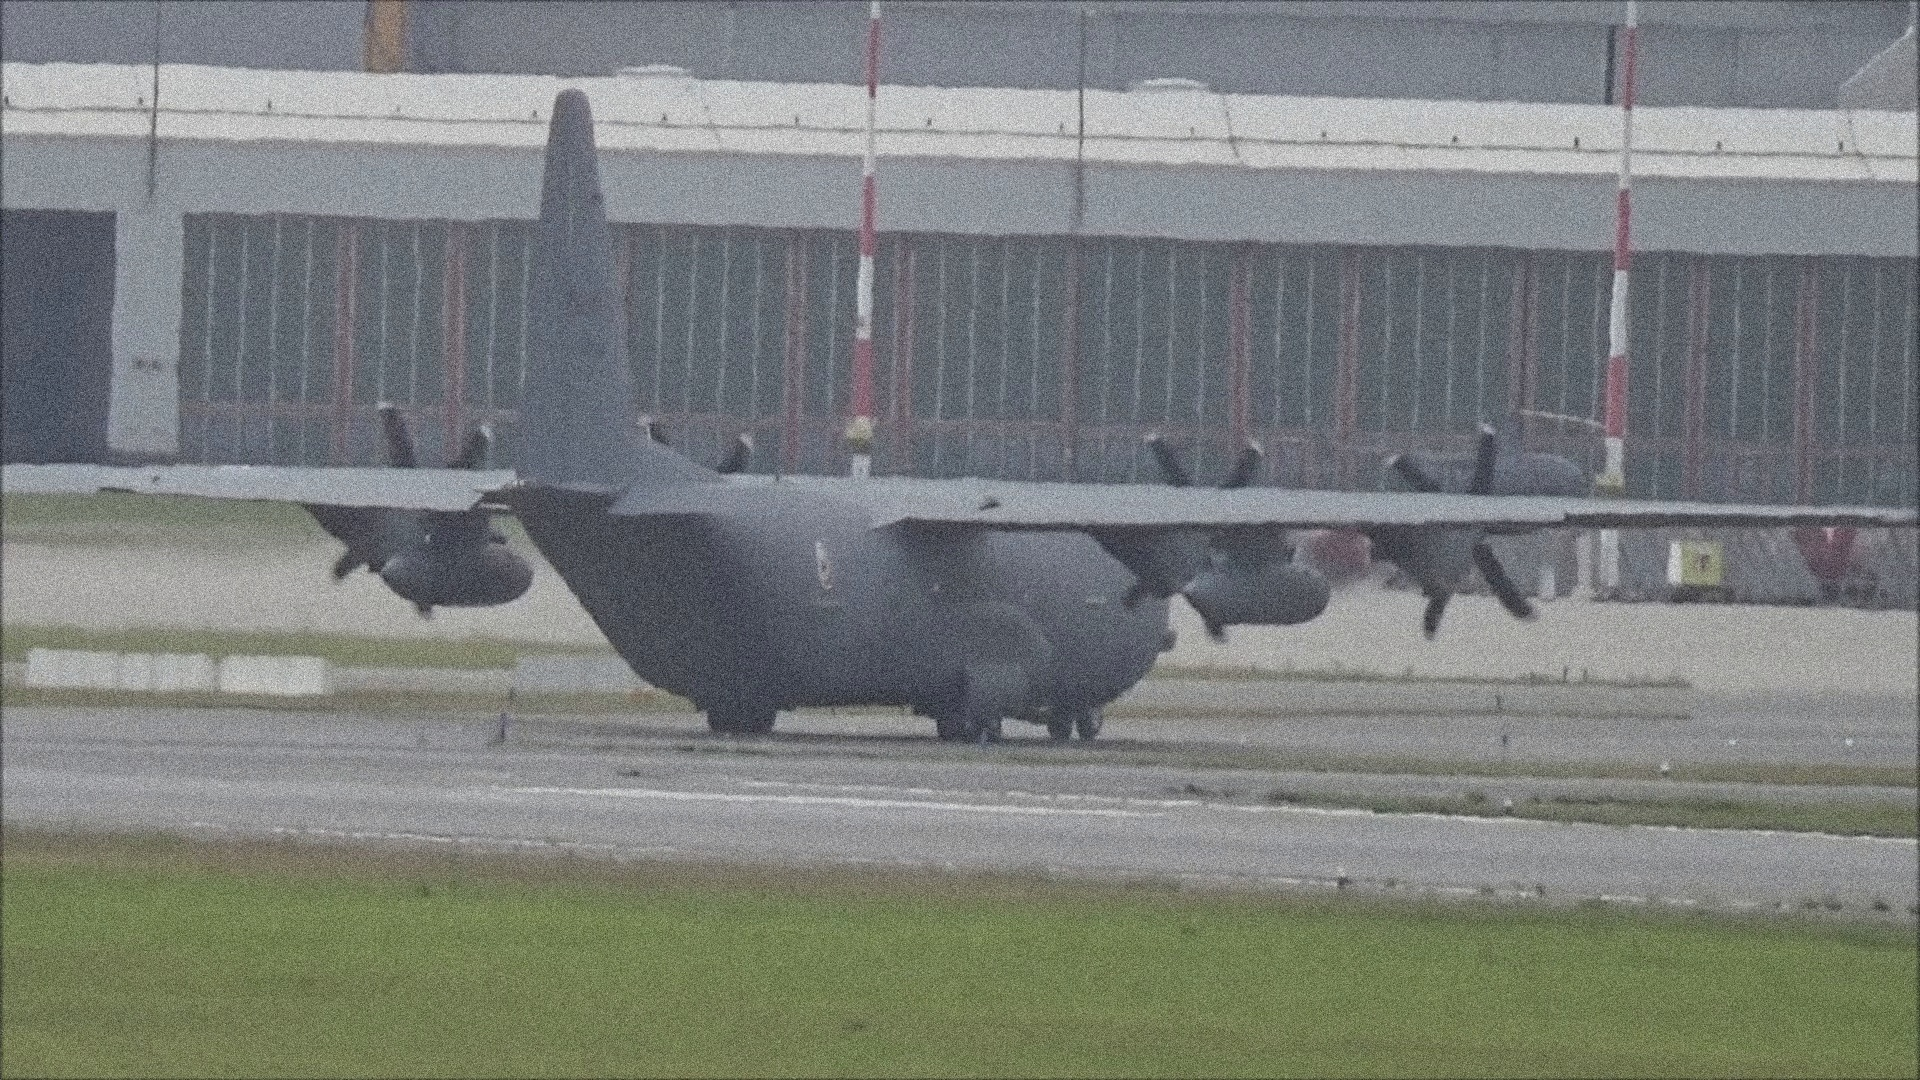Airplane: (11, 90, 1920, 740)
